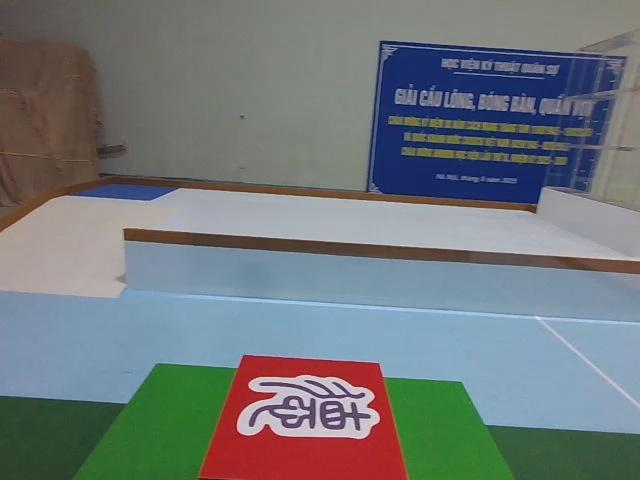R2 Fake: (198, 353, 410, 480)
